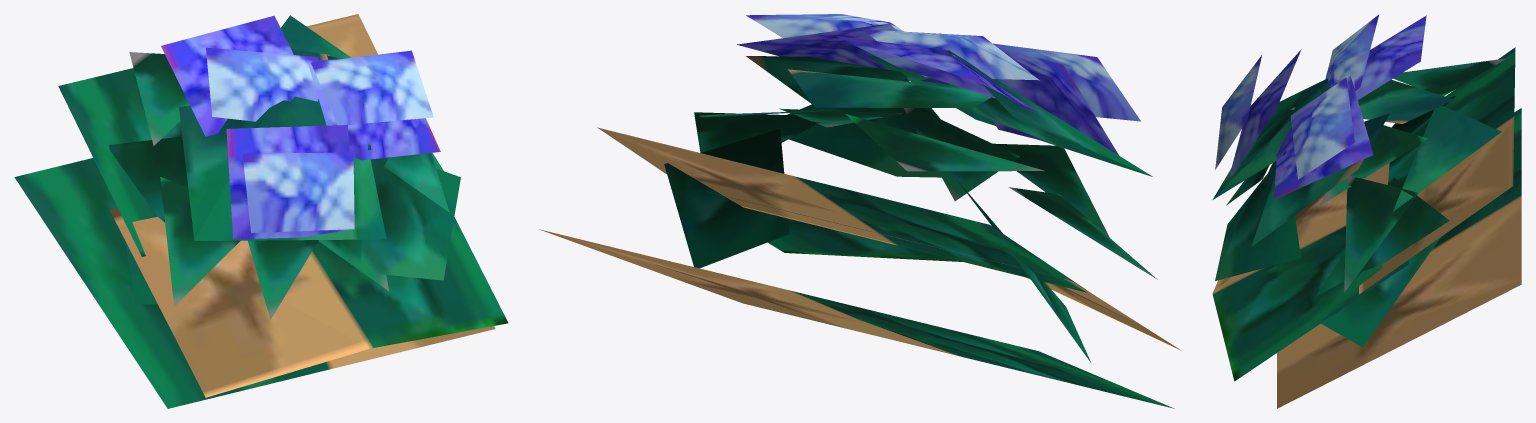
The model's file is fg_bushC_2_bl.dae.
3 views of the same model, side by side, from view 1: azimuth 30°, elevation 25°; view 2: azimuth 150°, elevation 25°; view 3: azimuth 270°, elevation 25° (orthographic). The views are drawn at different scales.
Parts seen in each view (by area): view 1: fg_bushC_2_bl; view 2: fg_bushC_2_bl; view 3: fg_bushC_2_bl.
Boxes of the visible parts, x1,y1,x2,y2 form: fg_bushC_2_bl: [14, 14, 508, 408]; fg_bushC_2_bl: [539, 14, 1181, 408]; fg_bushC_2_bl: [1212, 14, 1521, 408].
Bounding box in the file's own units: 47.83 × 36.01 × 35.4.
Materials: 1 (1 with a texture image).
